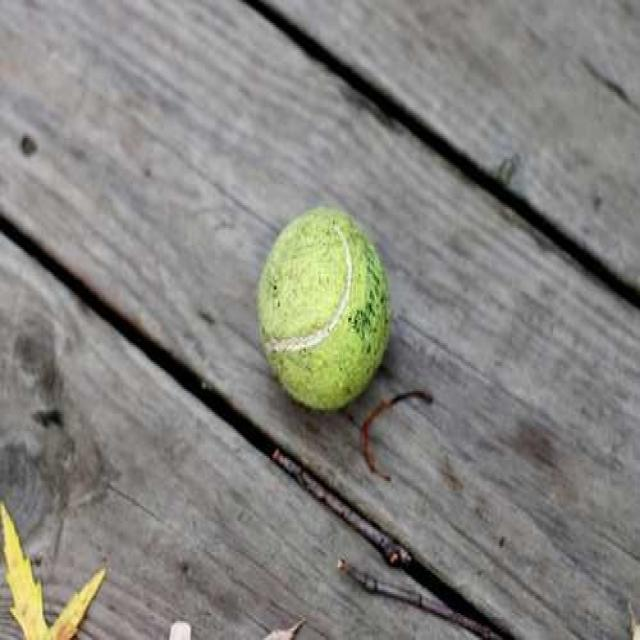Tennis_Ball: (262, 203, 389, 414)
